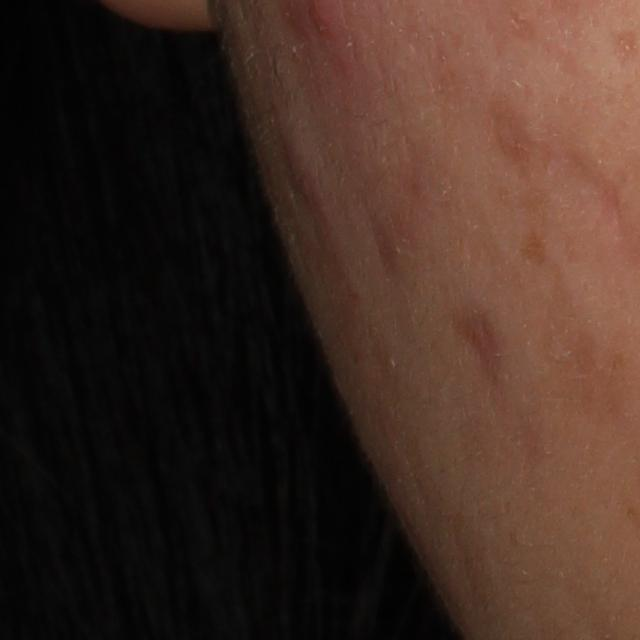atrophic_scar: (453, 310, 506, 380)
